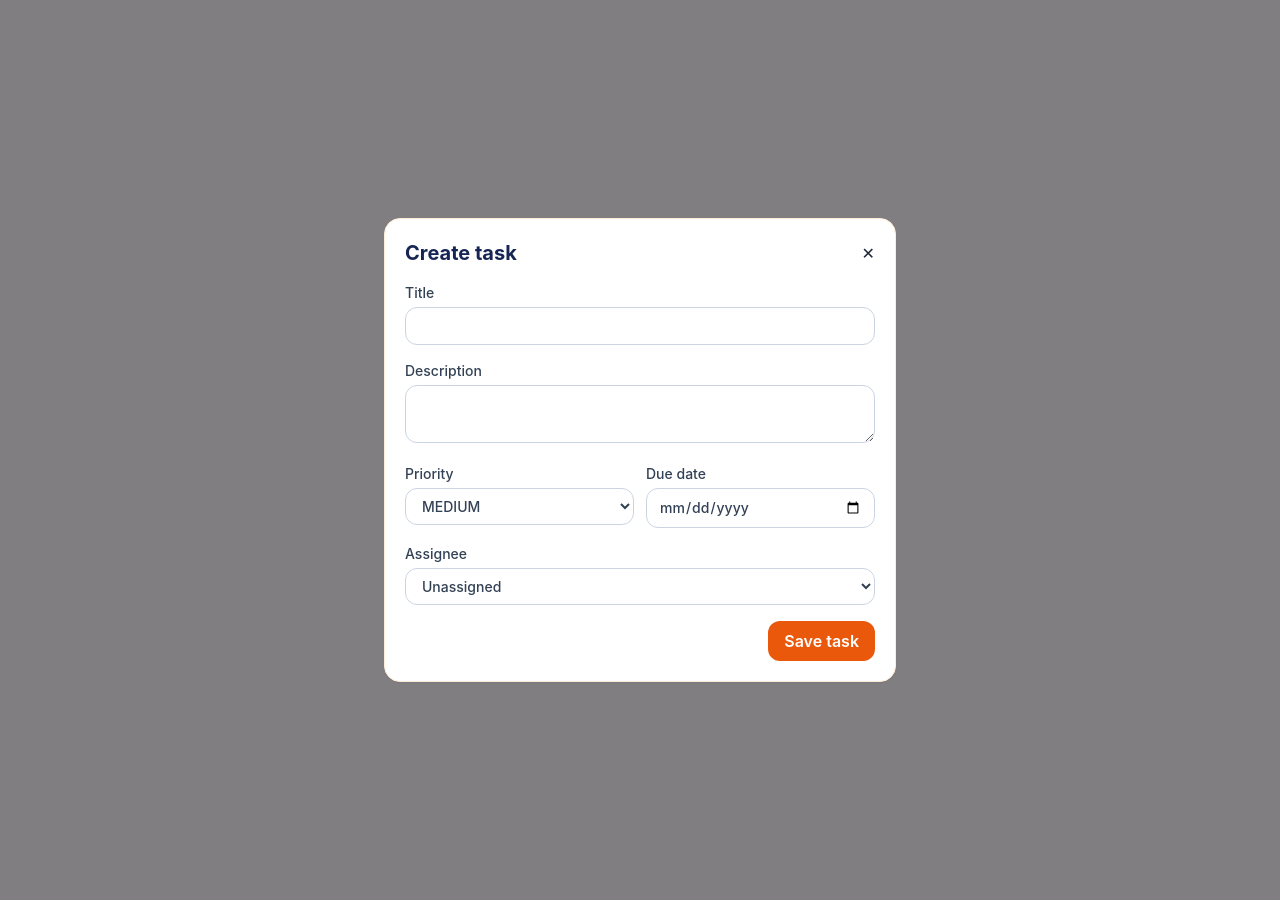
Test: task components › shows a validation message for a blank title
Later steps or results of the test are not shown.
Click the button "Save task" at (822, 641), box [768,621,875,661]
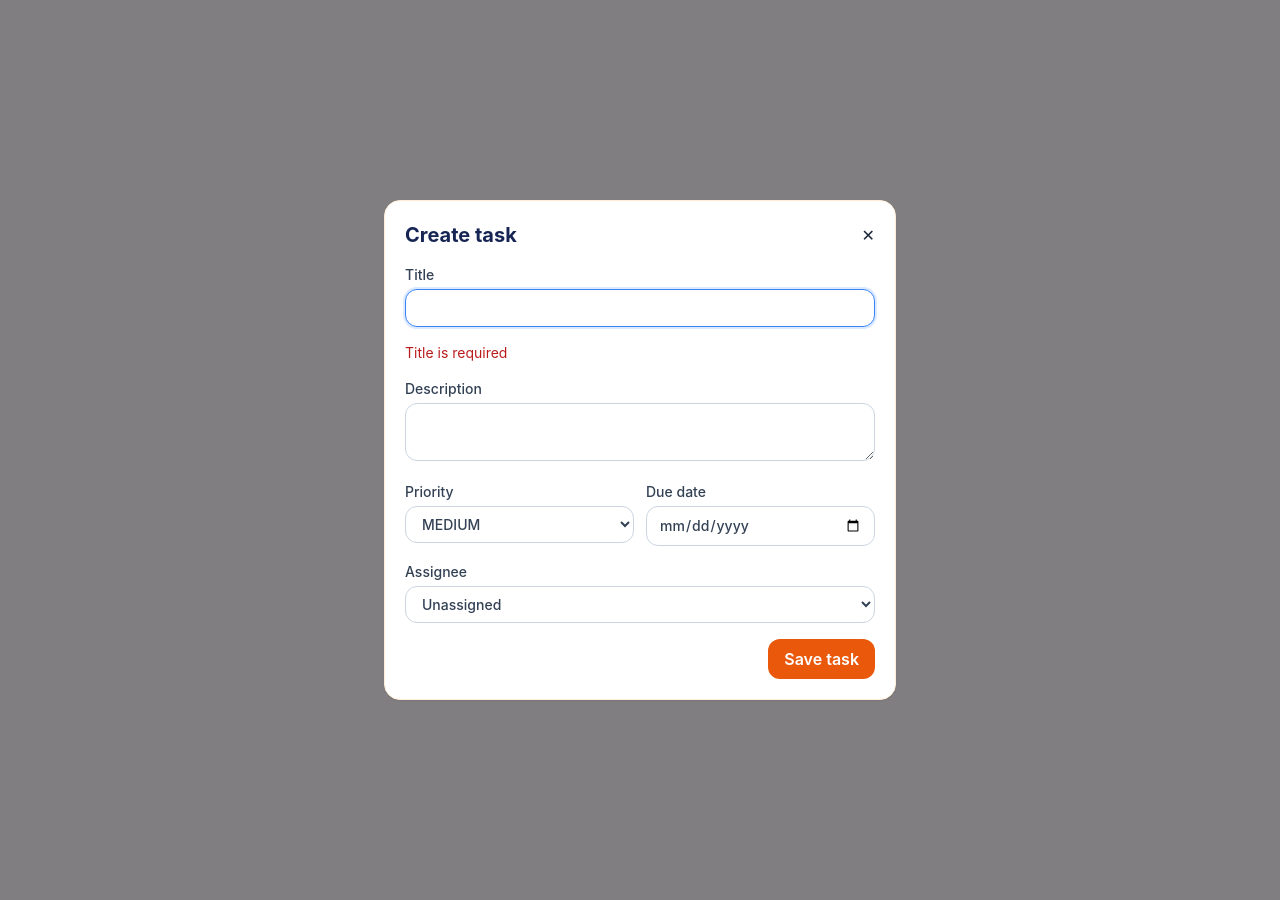
Result: the message reads "Title is required" at [405,344,507,361]
